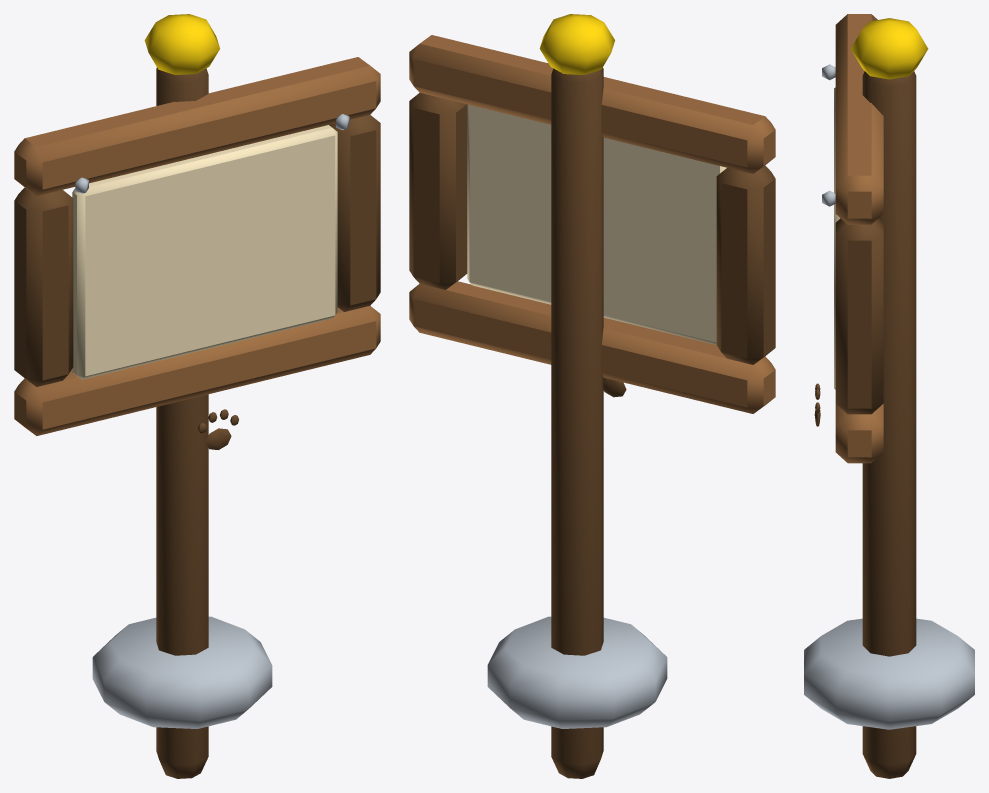
Rendered from Tutorial_PostSign.fbx.
3 views of the same model, side by side, from view 1: azimuth 30°, elevation 25°; view 2: azimuth 150°, elevation 25°; view 3: azimuth 270°, elevation 25° (orthographic).
Visible parts, largest first — view 1: Static, Panel; view 2: Static, Panel; view 3: Static, Panel.
Boxes of the visible parts, <box> form: Static: <box>14,14,380,778</box>; Panel: <box>72,125,337,379</box>; Static: <box>409,14,775,778</box>; Panel: <box>467,104,726,344</box>; Static: <box>804,14,974,778</box>; Panel: <box>834,87,840,389</box>.
Size of the model in its own units: 1.36 by 2.79 by 0.5706.
